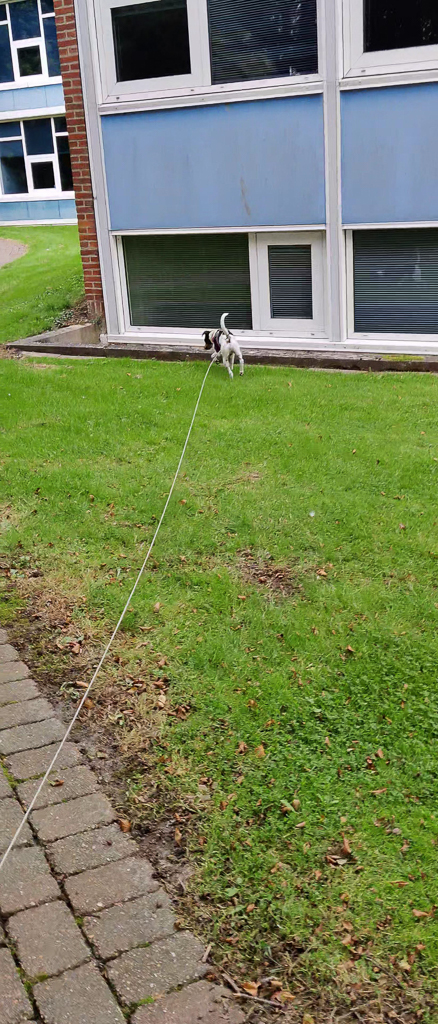Dog: (189, 311, 261, 385)
